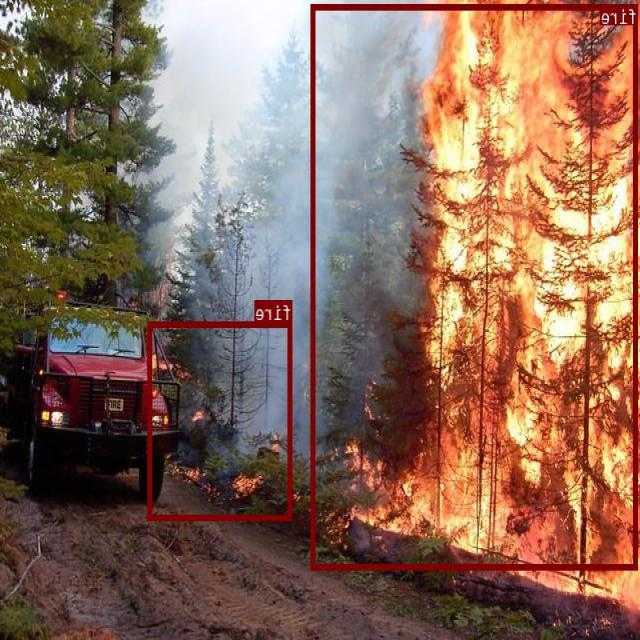fire: (312, 3, 639, 568), (149, 320, 293, 520)
